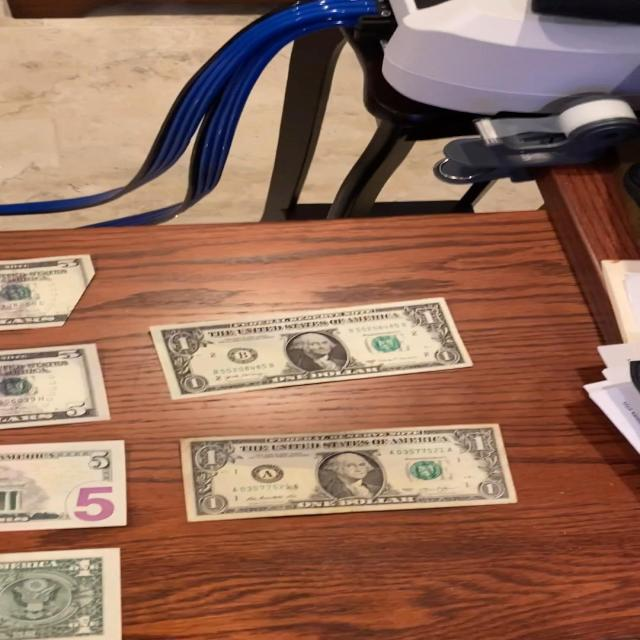1-Front: (150, 294, 479, 403), (175, 421, 520, 522)
5-Back: (2, 442, 133, 538)
5-Front: (0, 339, 112, 434), (0, 252, 99, 335)
